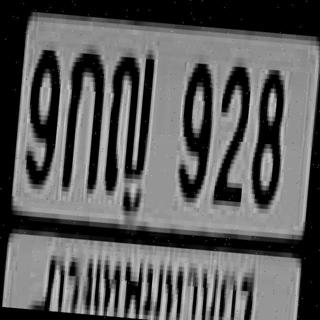A01: (60, 41, 106, 187)
A13: (101, 46, 154, 194)
N02: (212, 61, 251, 202)
N08: (248, 64, 286, 205)
N09: (175, 58, 216, 199), (22, 44, 62, 181)
P04: (34, 231, 262, 320)
